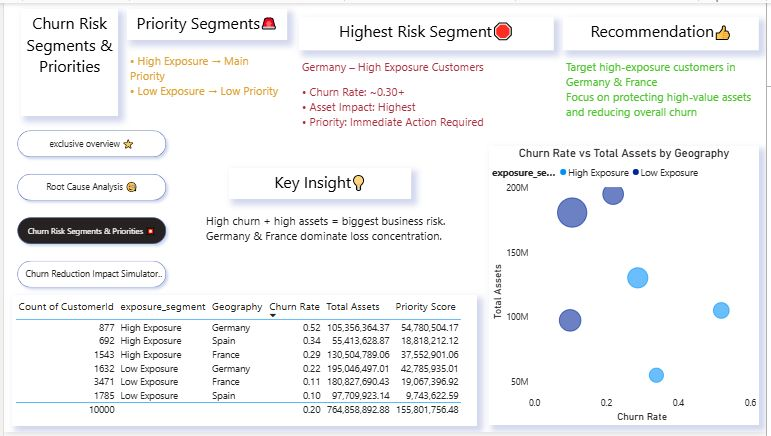

What the dashboard file says about the page in this screenshot:
{"tool":"powerbi","page":{"name":"Churn Risk Segments & Priorities 💥","canvas":[1280,720],"ordinal":2},"visuals":[{"type":"tableEx","fields":{"Values":["CountNonNull(churn.CustomerId)","churn_behavior_segment.exposure_segment","churn.Geography","churn.Churn Rate","churn.Total Assets","churn.Priority Score"]},"box":[13.7,489.9,780.8,219.6],"z":0},{"type":"scatterChart","title":"Churn Rate vs Total Assets by Geography","fields":{"X":["churn.Churn Rate"],"Y":["churn.Total Assets"],"Size":["CountNonNull(churn.CustomerId)"],"Series":["churn_behavior_segment.exposure_segment"],"Category":["churn.Geography"]},"box":[814.7,240.2,453.5,468.7],"z":1000},{"type":"textbox","box":[205.8,79.6,269,109.8],"z":2000},{"type":"textbox","box":[495.4,89.2,428.1,138.6],"z":3000},{"type":"textbox","box":[28.8,9.6,163.3,179.8],"z":4000},{"type":"textbox","box":[205.8,9.6,269,52.1],"z":5000},{"type":"textbox","box":[495.4,23.3,428.1,56.3],"z":6000},{"type":"textbox","box":[333.4,347.2,436.4,113.9],"z":7000},{"type":"textbox","box":[377.4,277.2,306,52.1],"z":8000},{"type":"textbox","box":[939,89,329.2,139.4],"z":9000},{"type":"textbox","box":[938.6,23.3,329.3,56.3],"z":10000},{"type":"pageNavigator","box":[13.7,204.5,269,285.4],"z":11000}]}

Visuals, with their boxes in screenshot pixels (x1, y1, x2, y2), scaled from the page's 1280x720 canvas onto the 771x436 screenshot:
tableEx - CountNonNull(churn.CustomerId) x churn_behavior_segment.exposure_segment: bbox=[8, 297, 479, 430]
"Churn Rate vs Total Assets by Geography" scatterChart: bbox=[491, 145, 764, 429]
textbox: bbox=[124, 48, 286, 115]
textbox: bbox=[298, 54, 556, 138]
textbox: bbox=[17, 6, 116, 115]
textbox: bbox=[124, 6, 286, 37]
textbox: bbox=[298, 14, 556, 48]
textbox: bbox=[201, 210, 464, 279]
textbox: bbox=[227, 168, 412, 199]
textbox: bbox=[566, 54, 764, 138]
textbox: bbox=[565, 14, 764, 48]
pageNavigator: bbox=[8, 124, 170, 297]
